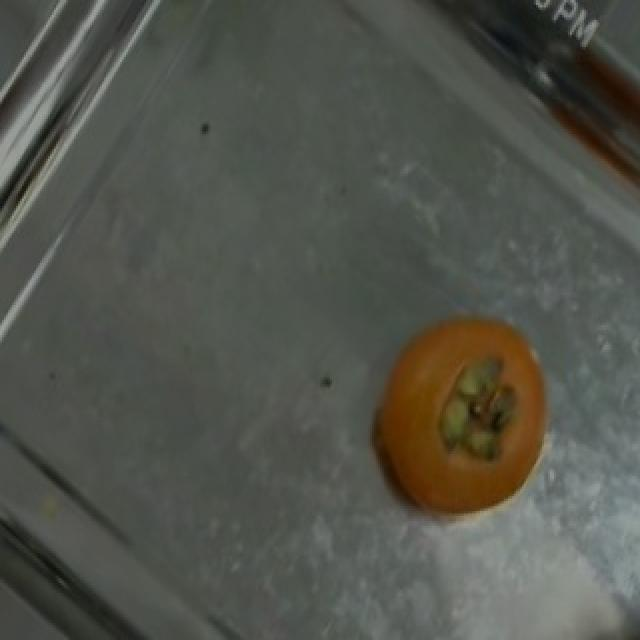Fruit: (346, 303, 576, 543)
